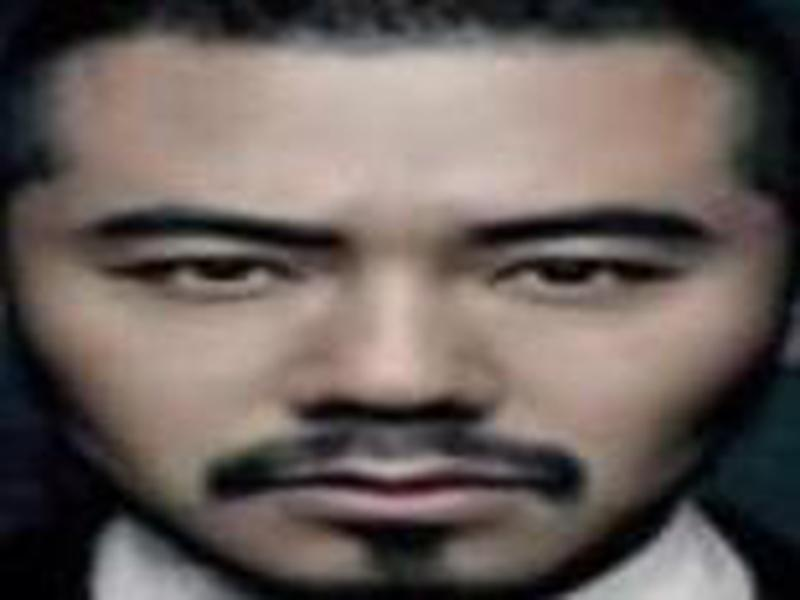without_mask: (48, 46, 753, 595)
